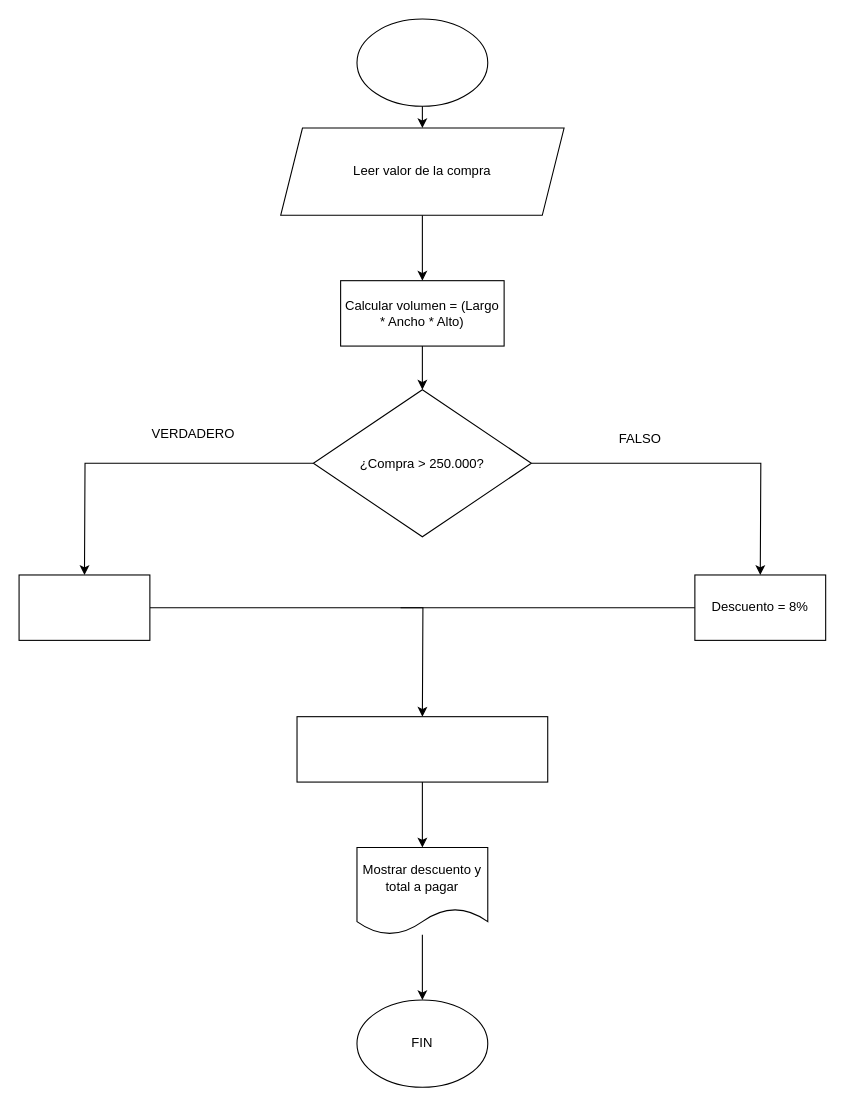
This 845x1106 diagram has some shape labels left out. Each missing label, with the box of its shape:
Descuento = 15%: (18, 574, 150, 640)
INICIO: (356, 18, 488, 106)
Total a pagar = Compra - Descuento: (296, 716, 548, 782)
